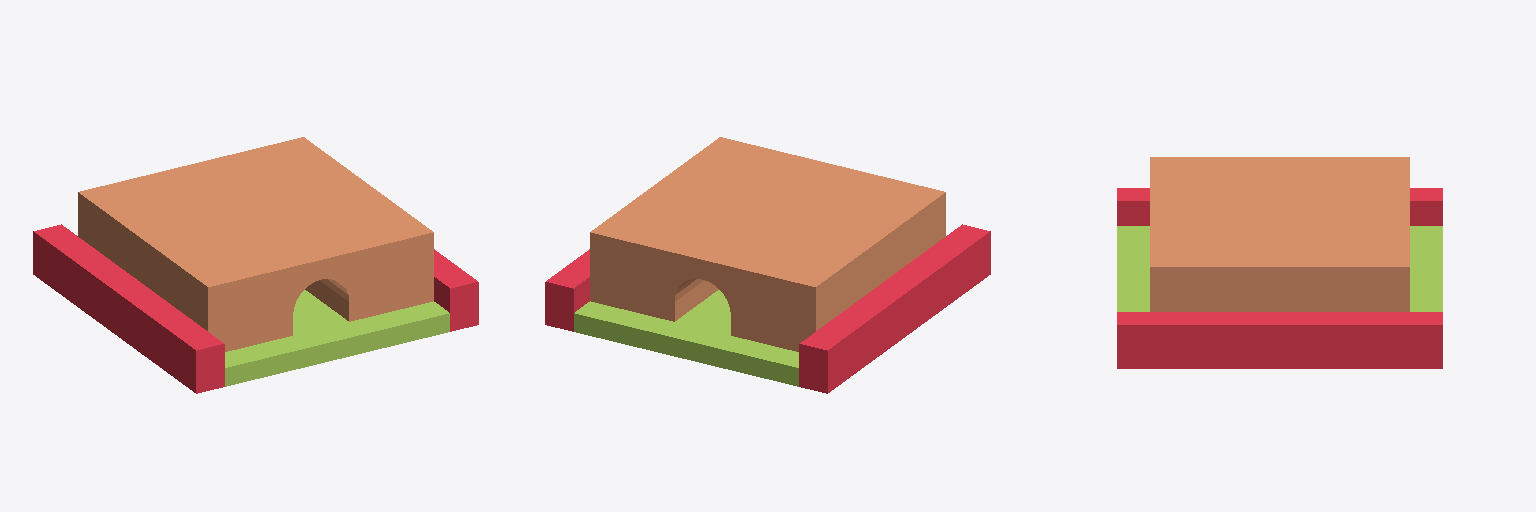
File: tunnelNarrow.obj
3 views of the same model, side by side, from view 1: azimuth 30°, elevation 25°; view 2: azimuth 150°, elevation 25°; view 3: azimuth 270°, elevation 25° (orthographic).
Parts seen in each view (by area): view 1: tunnelNarrow; view 2: tunnelNarrow; view 3: tunnelNarrow.
Boxes of the visible parts, box(x1,y1,x2,y2) form: tunnelNarrow: box(33, 137, 478, 393); tunnelNarrow: box(545, 137, 990, 393); tunnelNarrow: box(1117, 157, 1442, 368).
Size of the model in its own units: 0.9999 by 0.2966 by 0.9999.